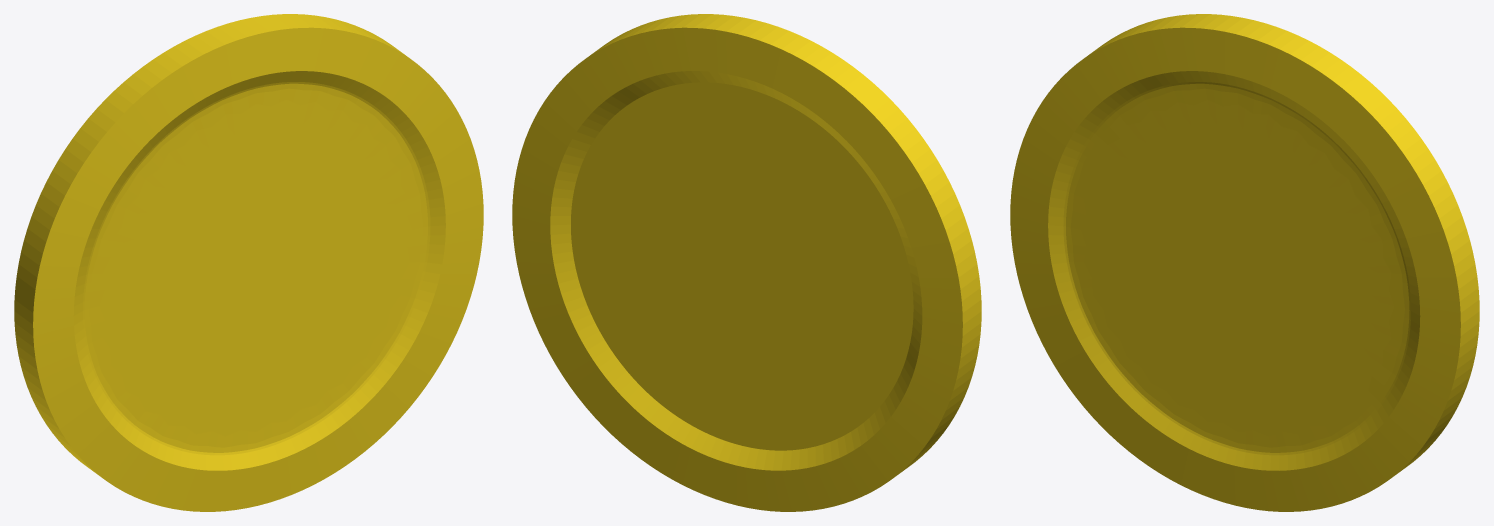
Rendered from ExportedBlenderFBXFile.fbx.
3 renders of one model, left to right at view 1: azimuth 30°, elevation 25°; view 2: azimuth 150°, elevation 25°; view 3: azimuth 330°, elevation 25°, orthographic.
Parts seen in each view (by area): view 1: Coin; view 2: Coin; view 3: Coin.
Boxes of the visible parts, bbox=[...] form: Coin: bbox=[14, 14, 483, 511]; Coin: bbox=[512, 14, 981, 511]; Coin: bbox=[1010, 14, 1479, 511].
Bounding box in the file's own units: 7.95 × 7.95 × 0.6575.
